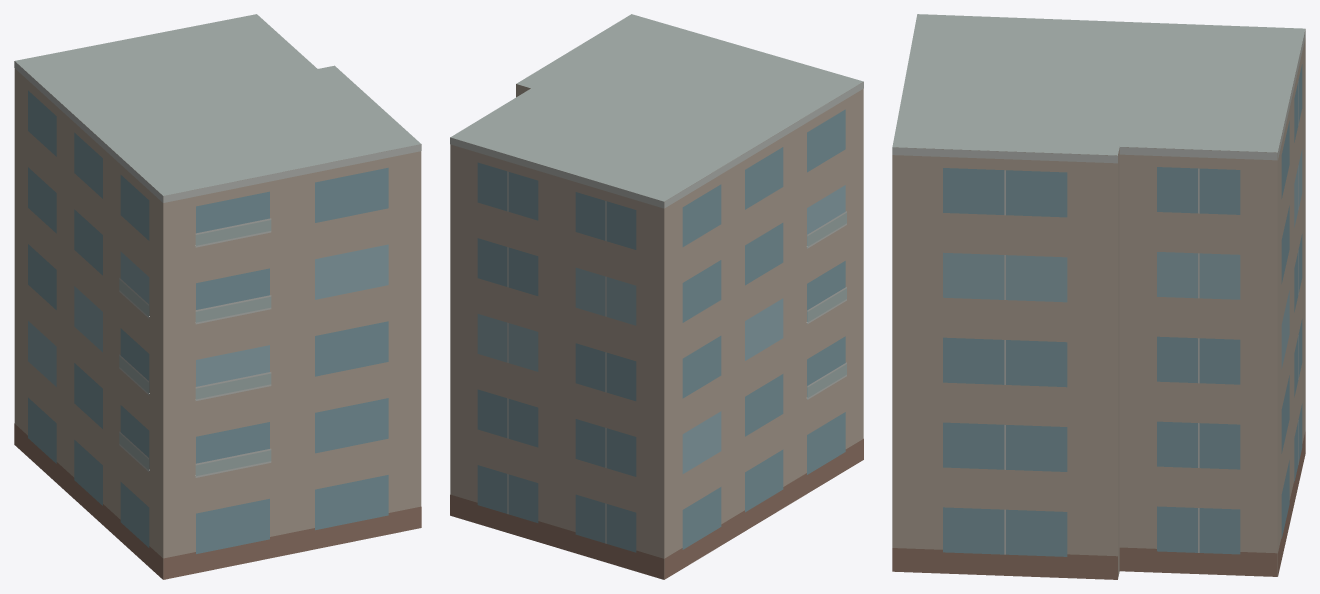
Rendered from survey-upis-32875708.glb.
3 views of the same model, side by side, from view 1: azimuth 30°, elevation 25°; view 2: azimuth 150°, elevation 25°; view 3: azimuth 270°, elevation 25° (orthographic). The views are drawn at different scales.
Parts seen in each view (by area): view 1: survey-upis-32875708.tmp; view 2: survey-upis-32875708.tmp; view 3: survey-upis-32875708.tmp.
Boxes of the visible parts, box(x1,y1,x2,y2) form: survey-upis-32875708.tmp: box(14, 14, 421, 579); survey-upis-32875708.tmp: box(450, 14, 863, 579); survey-upis-32875708.tmp: box(892, 14, 1305, 579).
Size of the model in its own units: 9.45 by 13.2 by 11.66.
